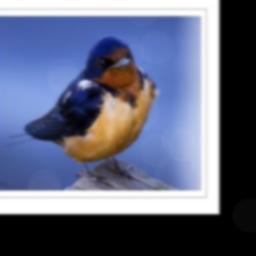Swallow: (4, 32, 161, 187)
